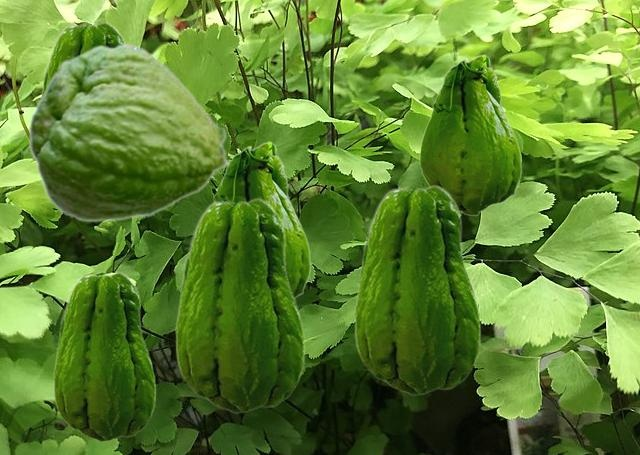sayote: (28, 42, 230, 222), (175, 197, 304, 413), (354, 184, 480, 395), (53, 271, 155, 441), (419, 54, 521, 215), (213, 141, 310, 298), (38, 21, 125, 98)
